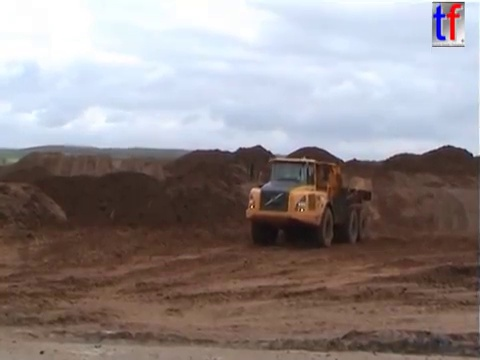truck: (243, 153, 375, 249)
